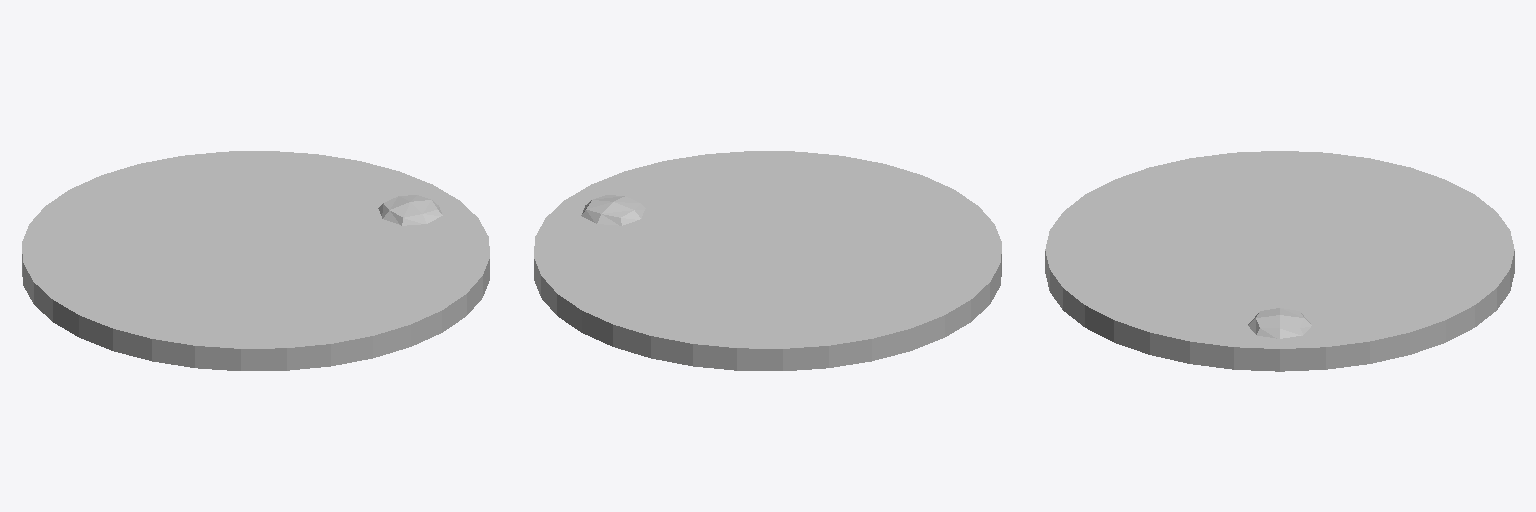
File: portal.obj
3 renders of one model, left to right at view 1: azimuth 30°, elevation 25°; view 2: azimuth 150°, elevation 25°; view 3: azimuth 270°, elevation 25°, orthographic.
Visible parts, largest first — view 1: Portal_Cylinder.001, Key_Cube.004; view 2: Portal_Cylinder.001, Key_Cube.004; view 3: Portal_Cylinder.001, Key_Cube.004.
Boxes of the visible parts, x1=… form: Portal_Cylinder.001: x1=22, y1=151, x2=489, y2=370; Key_Cube.004: x1=378, y1=195, x2=442, y2=225; Portal_Cylinder.001: x1=534, y1=151, x2=1001, y2=370; Key_Cube.004: x1=581, y1=195, x2=645, y2=225; Portal_Cylinder.001: x1=1045, y1=151, x2=1514, y2=371; Key_Cube.004: x1=1248, y1=308, x2=1311, y2=338.
Bounding box in the file's own units: 2 × 0.1546 × 2.